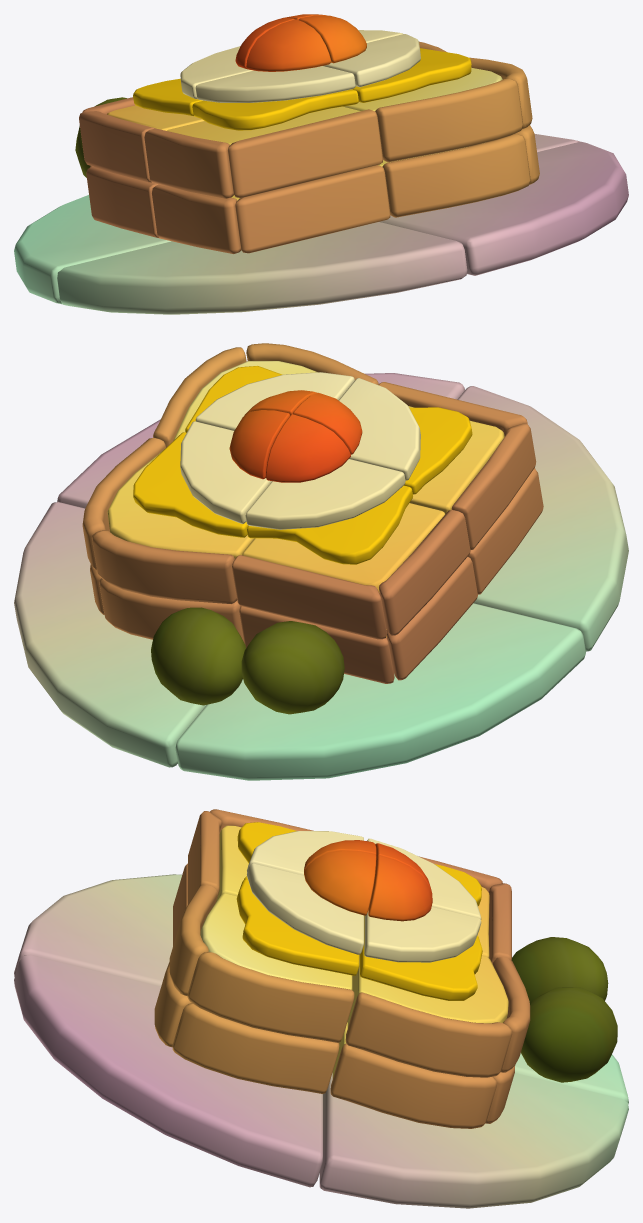
Rendered from Level_P_26.fbx.
3 views of the same model, one above another, from view 1: azimuth 30°, elevation 25°; view 2: azimuth 150°, elevation 25°; view 3: azimuth 270°, elevation 25° (orthographic). The views are drawn at different scales.
Visible parts, largest first — view 1: LV6_Toast_3, LV6_Toast_2, LV1_Toast_10, LV1_Toast_18, LV1_Toast_9, LV1_Toast_17, LV6_Toast_4, LV1_Toast_11, LV1_Toast_19, LV2_Toast_3, LV1_Toast_12, LV1_Toast_20 (+14 smaller); view 2: LV6_Toast_4, LV6_Toast_1, LV6_Toast_3, LV1_Toast_13, LV1_Toast_6, LV1_Toast_5, LV1_Toast_14, LV2_Toast_4, LV1_Toast_12, LV2_Toast_1, LV4_Toast_4, LV2_Toast_3 (+22 smaller); view 3: LV6_Toast_2, LV6_Toast_1, LV6_Toast_3, LV1_Toast_8, LV1_Toast_7, LV1_Toast_16, LV1_Toast_15, LV1_Toast_5, LV2_Toast_2, LV2_Toast_1, LV3_Toast_2, LV1_Toast_6 (+22 smaller).
Boxes of the visible parts, x1,y1,x2,y2 form: LV6_Toast_3: (57,222,467,314); LV6_Toast_2: (379,141,628,275); LV1_Toast_10: (227,109,382,197); LV1_Toast_18: (235,165,390,253); LV1_Toast_9: (375,79,522,162); LV1_Toast_17: (382,134,530,217); LV6_Toast_4: (14,195,170,304); LV1_Toast_11: (144,128,233,198); LV1_Toast_19: (152,184,241,254); LV2_Toast_3: (195,66,355,102); LV1_Toast_12: (79,111,155,182); LV1_Toast_20: (86,167,158,237); LV6_Toast_4: (175,603,585,780); LV6_Toast_1: (14,502,205,767); LV6_Toast_3: (457,386,628,651); LV1_Toast_13: (232,555,387,639); LV1_Toast_6: (241,621,344,714); LV1_Toast_5: (151,607,245,705); LV1_Toast_14: (92,530,237,603); LV2_Toast_4: (245,459,405,529); LV1_Toast_12: (379,510,470,635); LV2_Toast_1: (180,421,271,523); LV4_Toast_4: (242,503,445,592); LV2_Toast_3: (338,378,420,480); LV6_Toast_2: (14,955,322,1187); LV6_Toast_1: (319,1073,628,1208); LV6_Toast_3: (14,874,181,986); LV1_Toast_8: (187,952,354,1042); LV1_Toast_7: (345,992,512,1077); LV1_Toast_16: (172,1003,339,1093); LV1_Toast_15: (330,1043,496,1128); LV1_Toast_5: (521,987,617,1082); LV2_Toast_2: (247,863,363,954); LV2_Toast_1: (364,907,481,962); LV3_Toast_2: (236,879,359,975); LV1_Toast_6: (512,937,608,1003).
Size of the model in its own units: 455 by 225 by 443.
